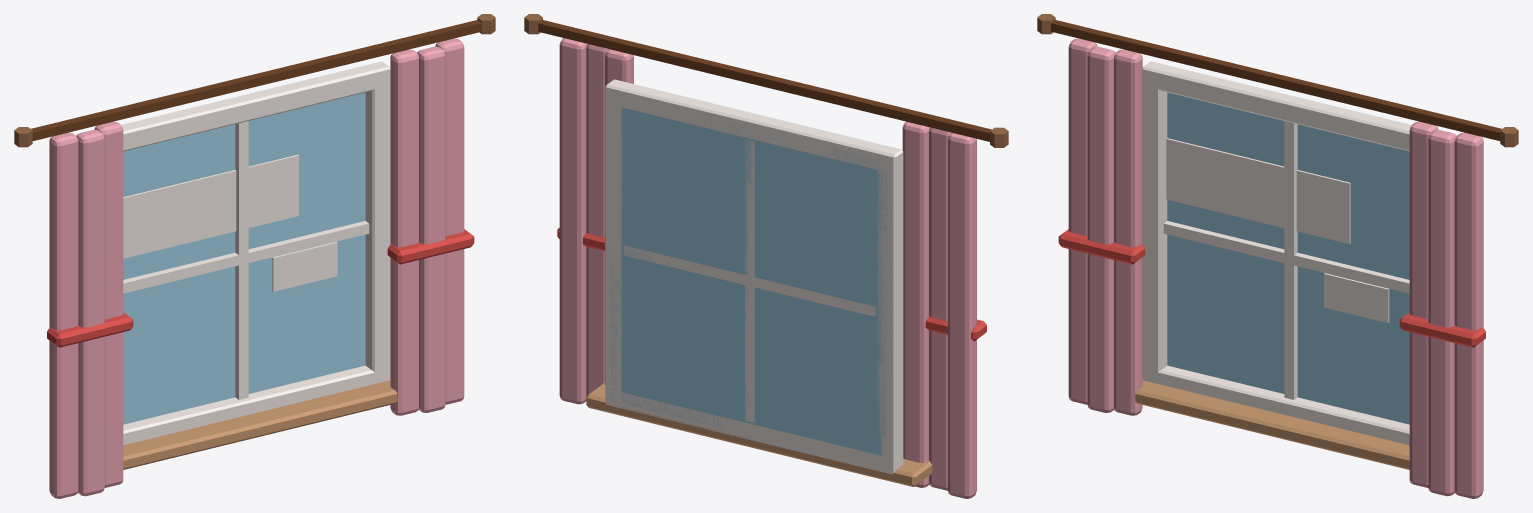
Rendered from window.glb.
3 views of the same model, side by side, from view 1: azimuth 30°, elevation 25°; view 2: azimuth 150°, elevation 25°; view 3: azimuth 330°, elevation 25° (orthographic).
Parts seen in each view (by area): view 1: window; view 2: window; view 3: window.
Boxes of the visible parts, box(x1,y1,x2,y2) form: window: box(14, 14, 495, 498); window: box(524, 14, 1008, 498); window: box(1037, 14, 1518, 498).
Size of the model in its own units: 1.48 by 1.11 by 0.155.
1 material, 1 textured.
